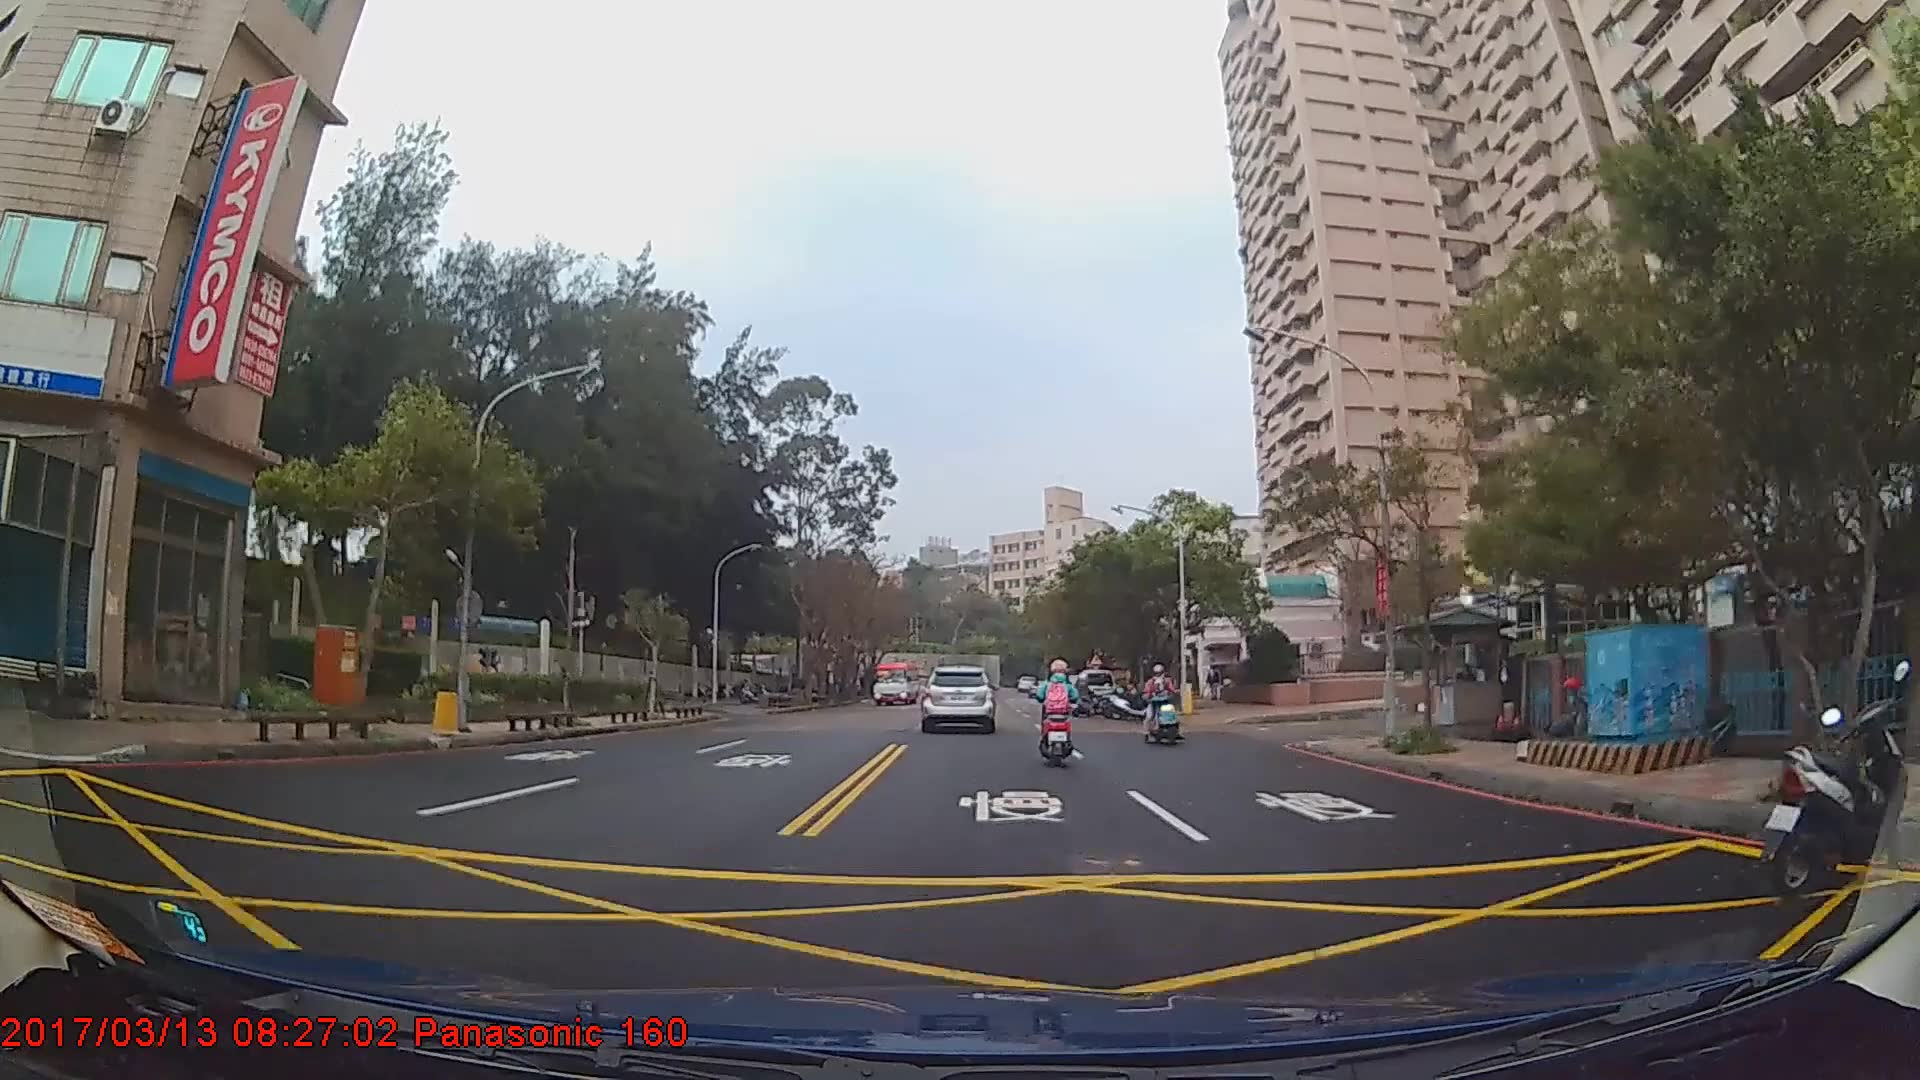rider: (1034, 657, 1080, 773), (1142, 666, 1182, 744), (1071, 671, 1102, 719)
vehicle: (919, 664, 995, 732), (871, 660, 923, 705), (1069, 668, 1117, 714)
